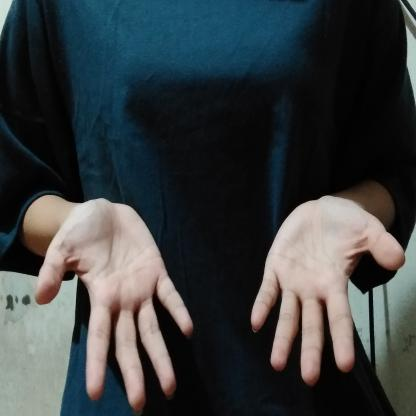what: (20, 179, 410, 416)
